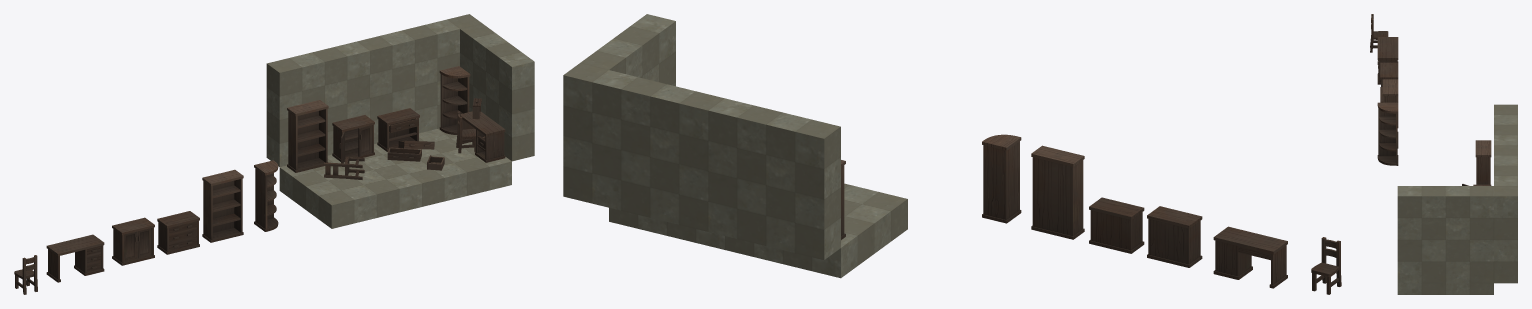
Rendered from NewFurnitures.fbx.
3 renders of one model, left to right at view 1: azimuth 30°, elevation 25°; view 2: azimuth 150°, elevation 25°; view 3: azimuth 270°, elevation 25°, orthographic. The views are drawn at different scales.
Visible parts, largest first — view 1: WallScale.005, WallScale.001, FloorScale, WallScale.003, FloorScale.003, Furn_BookShelf, Furn_BookShelf.001, Furn_CornerShelf.001, Furn_Desk, Furn_CornerShelf, Furn_Desk.001, Furn_Cabinet.001 (+10 smaller); view 2: WallScale.005, WallScale.001, FloorScale, Furn_BookShelf, WallScale.002, WallScale.003, Furn_CornerShelf, Furn_Desk, Furn_Cabinet, Furn_Dresser, FloorScale.003, Furn_chair; view 3: WallScale.003, WallScale.002, Furn_CornerShelf, FloorScale.003, WallScale.005, WallScale.001, Furn_BookShelf.001, Furn_Desk, Furn_BookShelf, Furn_Cabinet, Furn_chair.
Boxes of the visible parts, x1,y1,x2,y2 form: WallScale.005: (266,41,369,166); WallScale.001: (357,19,459,144); FloorScale: (279,148,421,228); WallScale.003: (460,23,534,161); FloorScale.003: (374,128,511,206); Furn_BookShelf: (202,169,243,242); Furn_BookShelf.001: (287,100,328,172); Furn_CornerShelf.001: (439,66,470,134); Furn_Desk: (46,234,104,282); Furn_CornerShelf: (254,160,278,231); Furn_Desk.001: (460,111,505,162); Furn_Cabinet.001: (332,115,374,162); WallScale.005: (708,98,840,259); WallScale.001: (592,70,724,231); FloorScale: (725,183,907,278); Furn_BookShelf: (1031,145,1084,239); WallScale.002: (563,63,608,203); WallScale.003: (580,14,675,86); Furn_CornerShelf: (982,134,1021,223); Furn_Desk: (1213,226,1287,288); Furn_Cabinet: (1147,206,1202,267); Furn_Dresser: (1089,197,1144,253); FloorScale.003: (609,208,724,249); Furn_chair: (1311,237,1341,294); WallScale.003: (1397,186,1493,283); WallScale.002: (1494,186,1517,283); Furn_CornerShelf: (1377,102,1398,165); FloorScale.003: (1397,283,1493,294); WallScale.005: (1494,104,1517,145); WallScale.001: (1494,145,1517,185); Furn_BookShelf.001: (1475,140,1491,184); Furn_Desk: (1377,37,1398,84); Furn_BookShelf: (1382,79,1398,148); Furn_Cabinet: (1380,62,1398,86); Furn_chair: (1370,14,1388,52).
Size of the model in its own units: 2334 by 500 by 615.
